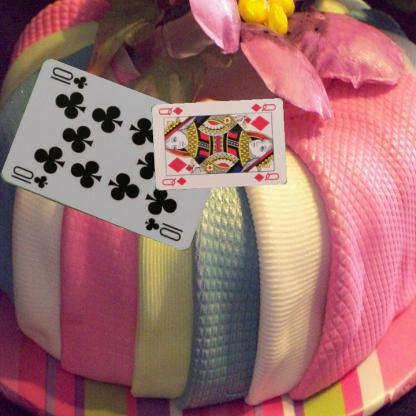10c: (8, 163, 49, 190)
Qd: (247, 101, 276, 115), (159, 175, 188, 187)
